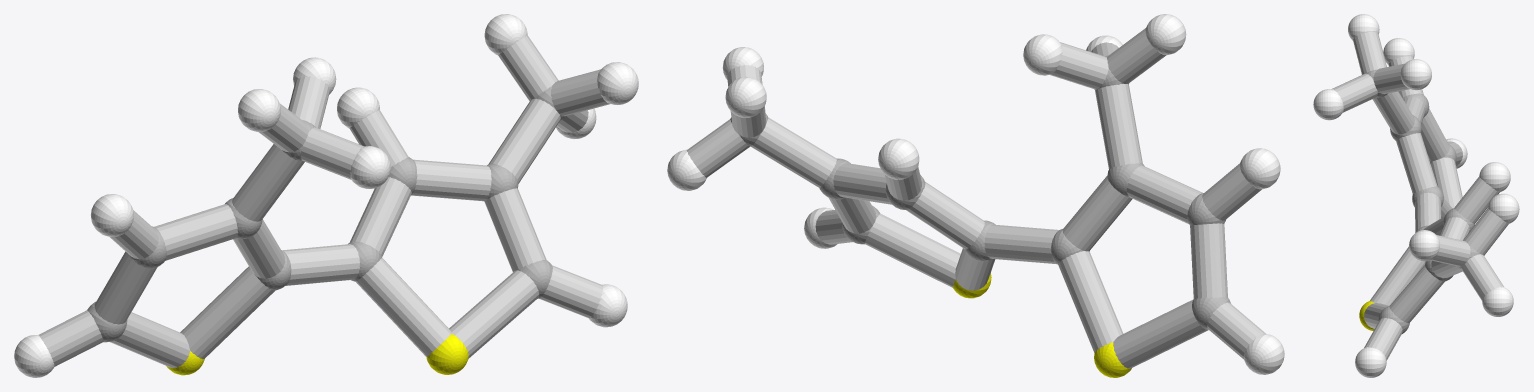
Rendered from Methylthiophene_Phi_10_Theta_120_Methylthiophene.glb.
The picture shows the model from 3 angles, left to right: view 1: azimuth 30°, elevation 25°; view 2: azimuth 150°, elevation 25°; view 3: azimuth 270°, elevation 25°; orthographic projection. The views are drawn at different scales.
Parts seen in each view (by area): view 1: grp7965, grp3621, grp1, grp7241; view 2: grp7965, grp3621, grp1, grp7241; view 3: grp7965, grp3621, grp1, grp7241.
Boxes of the visible parts, x1=… form: grp7965: x1=39, y1=35, x2=609, y2=367; grp3621: x1=14, y1=14, x2=638, y2=377; grp1: x1=87, y1=86, x2=566, y2=342; grp7241: x1=166, y1=334, x2=468, y2=375; grp7965: x1=686, y1=28, x2=1265, y2=368; grp3621: x1=667, y1=14, x2=1284, y2=374; grp1: x1=730, y1=55, x2=1230, y2=329; grp7241: x1=953, y1=273, x2=1131, y2=377; grp7965: x1=1331, y1=32, x2=1508, y2=360; grp3621: x1=1313, y1=14, x2=1519, y2=377; grp1: x1=1366, y1=69, x2=1479, y2=333; grp7241: x1=1359, y1=301, x2=1374, y2=330.
Bounding box in the file's own units: 9.73 × 5.13 × 3.92.
